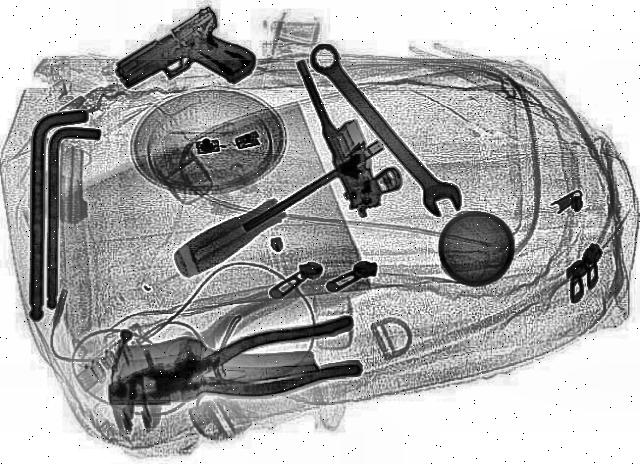Gun: (99, 5, 277, 121), (294, 54, 412, 220)
Pliers: (92, 316, 374, 426)
Wrench: (292, 42, 470, 220)
